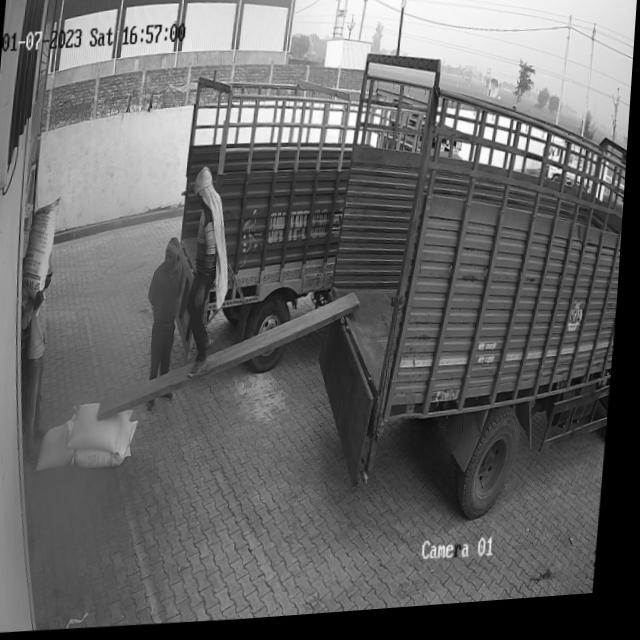sack: (22, 199, 62, 313), (71, 400, 140, 459), (77, 420, 143, 471), (41, 419, 82, 474)
